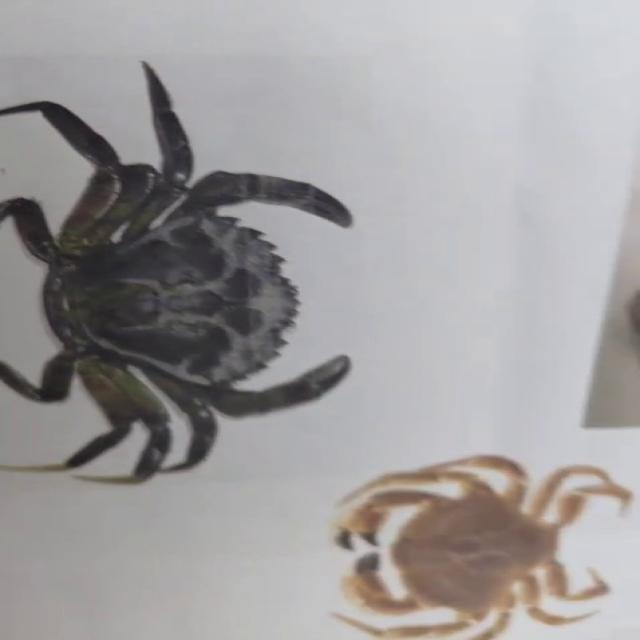egc: (0, 62, 352, 483)
